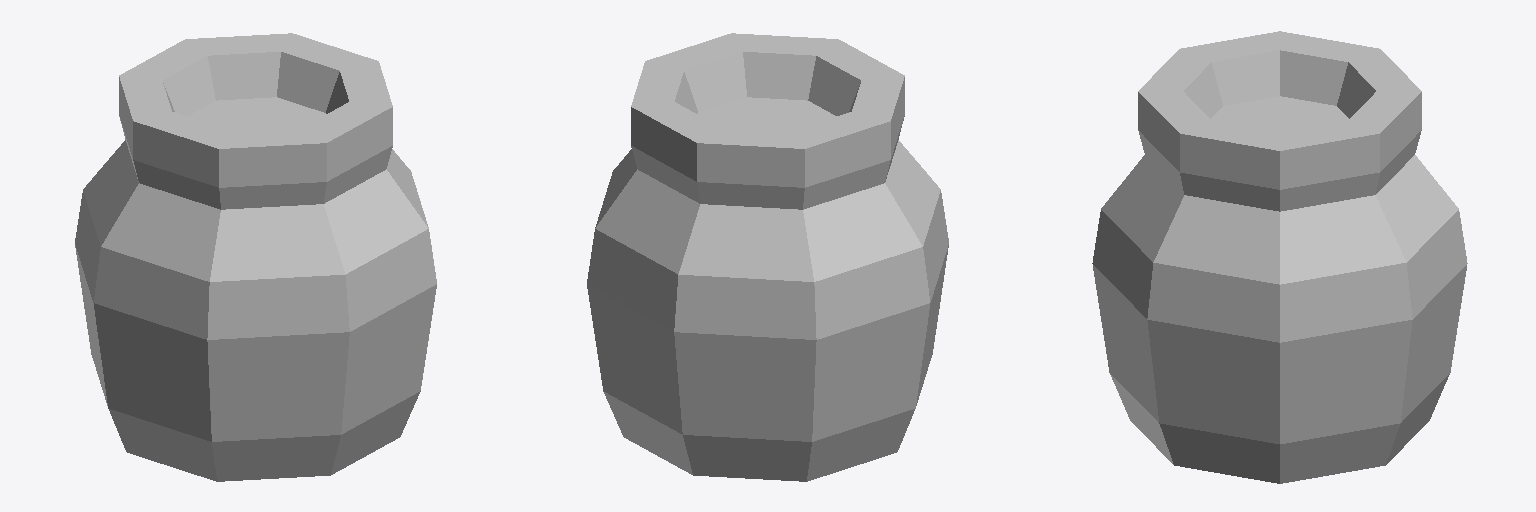
File: honey.obj
3 renders of one model, left to right at view 1: azimuth 30°, elevation 25°; view 2: azimuth 150°, elevation 25°; view 3: azimuth 270°, elevation 25°, orthographic.
Parts seen in each view (by area): view 1: honey; view 2: honey; view 3: honey.
Part boxes in pixels (bbox=[...]): honey: bbox=[75, 33, 436, 481]; honey: bbox=[587, 33, 948, 481]; honey: bbox=[1092, 31, 1467, 483].
Size of the model in its own units: 0.326 by 0.316 by 0.326.